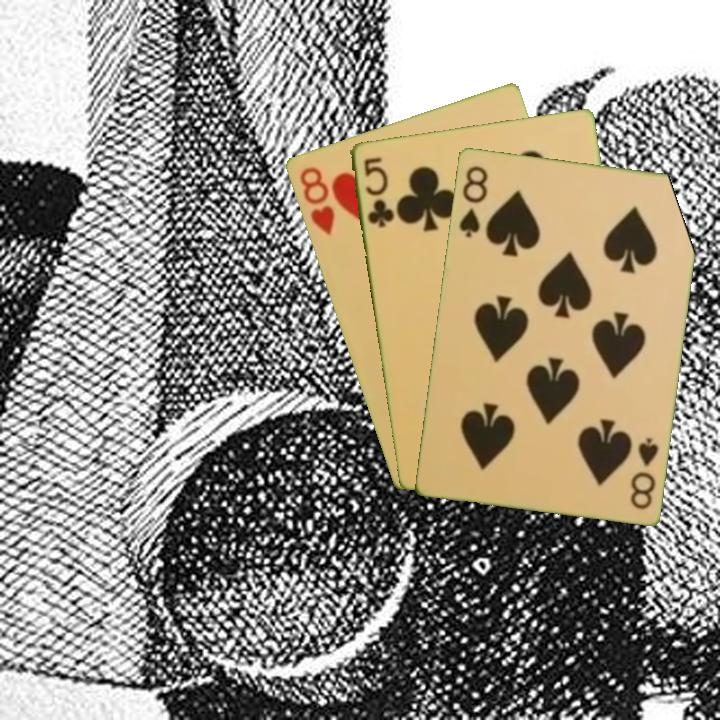5c: (359, 153, 397, 230)
8h: (295, 162, 337, 239)
8s: (455, 162, 491, 240), (626, 433, 661, 512)
